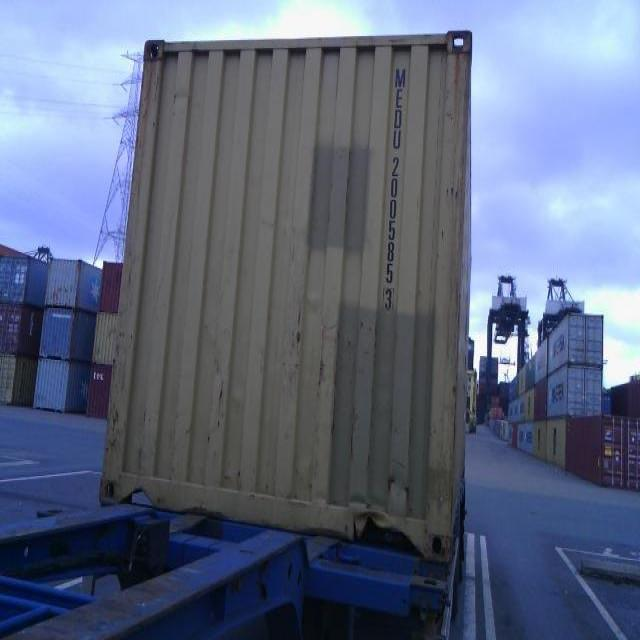dent: (306, 285, 324, 316), (230, 386, 247, 415), (175, 93, 190, 104)
